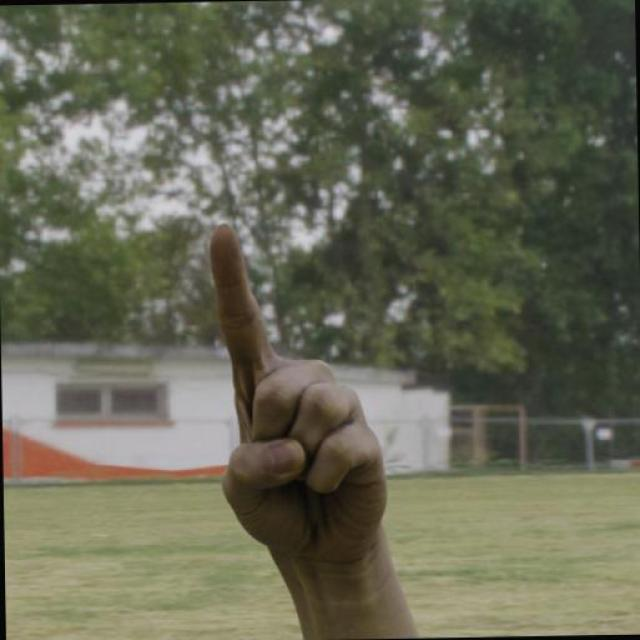Z: (206, 222, 392, 568)
